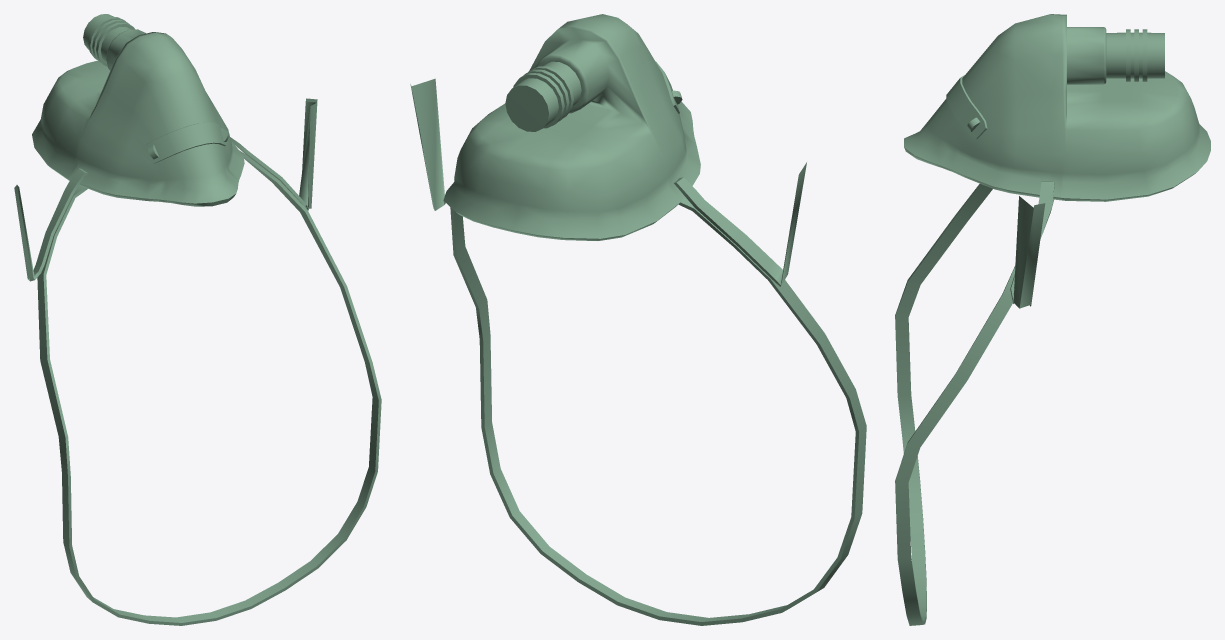
The model's file is ACE_Medical_OxygenMask.fbx.
The picture shows the model from 3 angles, left to right: view 1: azimuth 30°, elevation 25°; view 2: azimuth 150°, elevation 25°; view 3: azimuth 270°, elevation 25°; orthographic projection. The views are drawn at different scales.
Parts seen in each view (by area): view 1: ACE_oxygen_mask_LOD0; view 2: ACE_oxygen_mask_LOD0; view 3: ACE_oxygen_mask_LOD0.
Boxes of the visible parts, left/top/right/bottom form: ACE_oxygen_mask_LOD0: left=14, top=14, right=381, bottom=625; ACE_oxygen_mask_LOD0: left=410, top=14, right=866, bottom=625; ACE_oxygen_mask_LOD0: left=895, top=14, right=1210, bottom=625.
Size of what is drawn, in the model's own units: 15.56 by 25.41 by 12.41.
